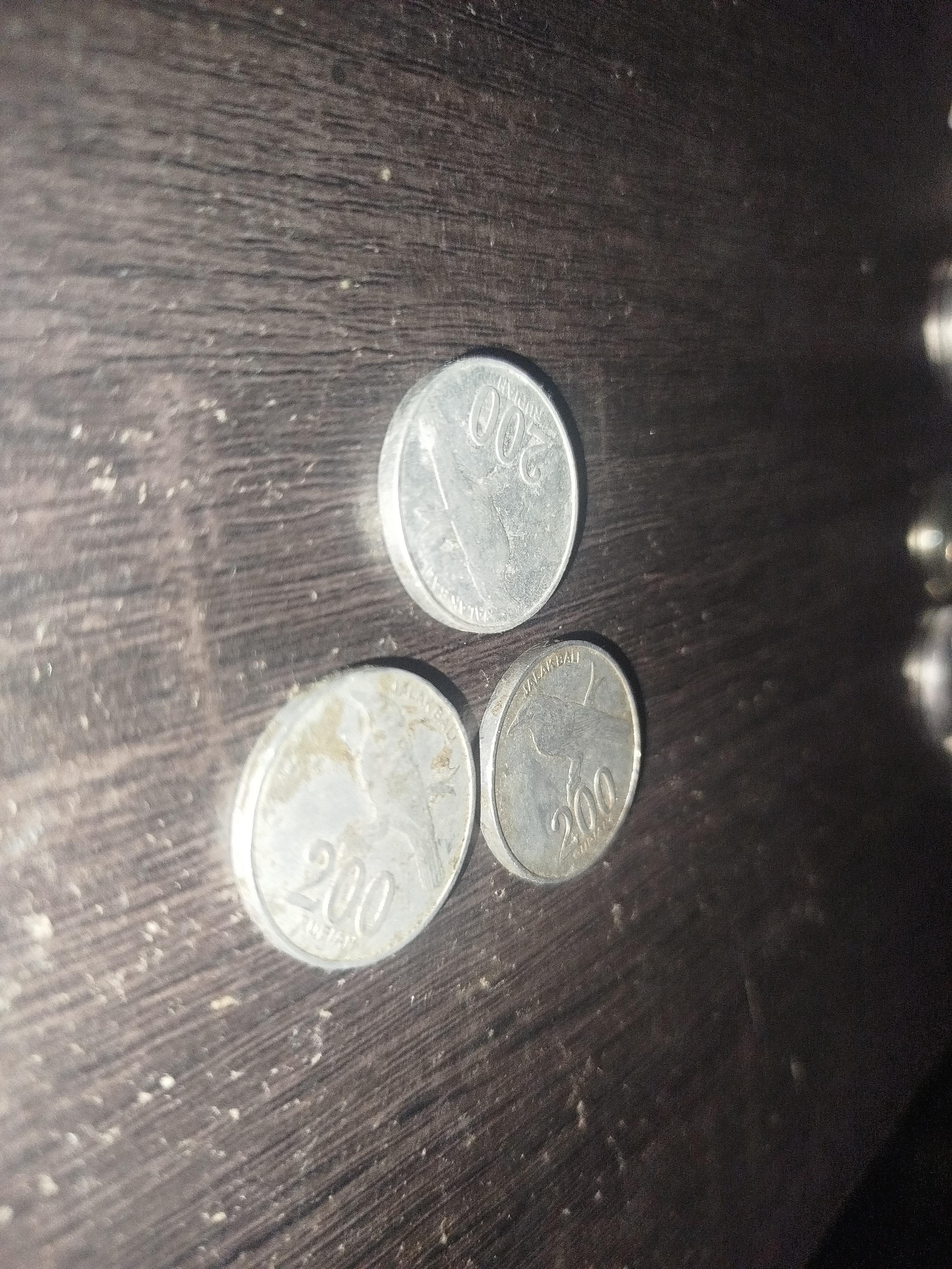coin_200_e2003: (236, 659, 478, 970), (379, 343, 586, 638), (477, 635, 644, 884)
